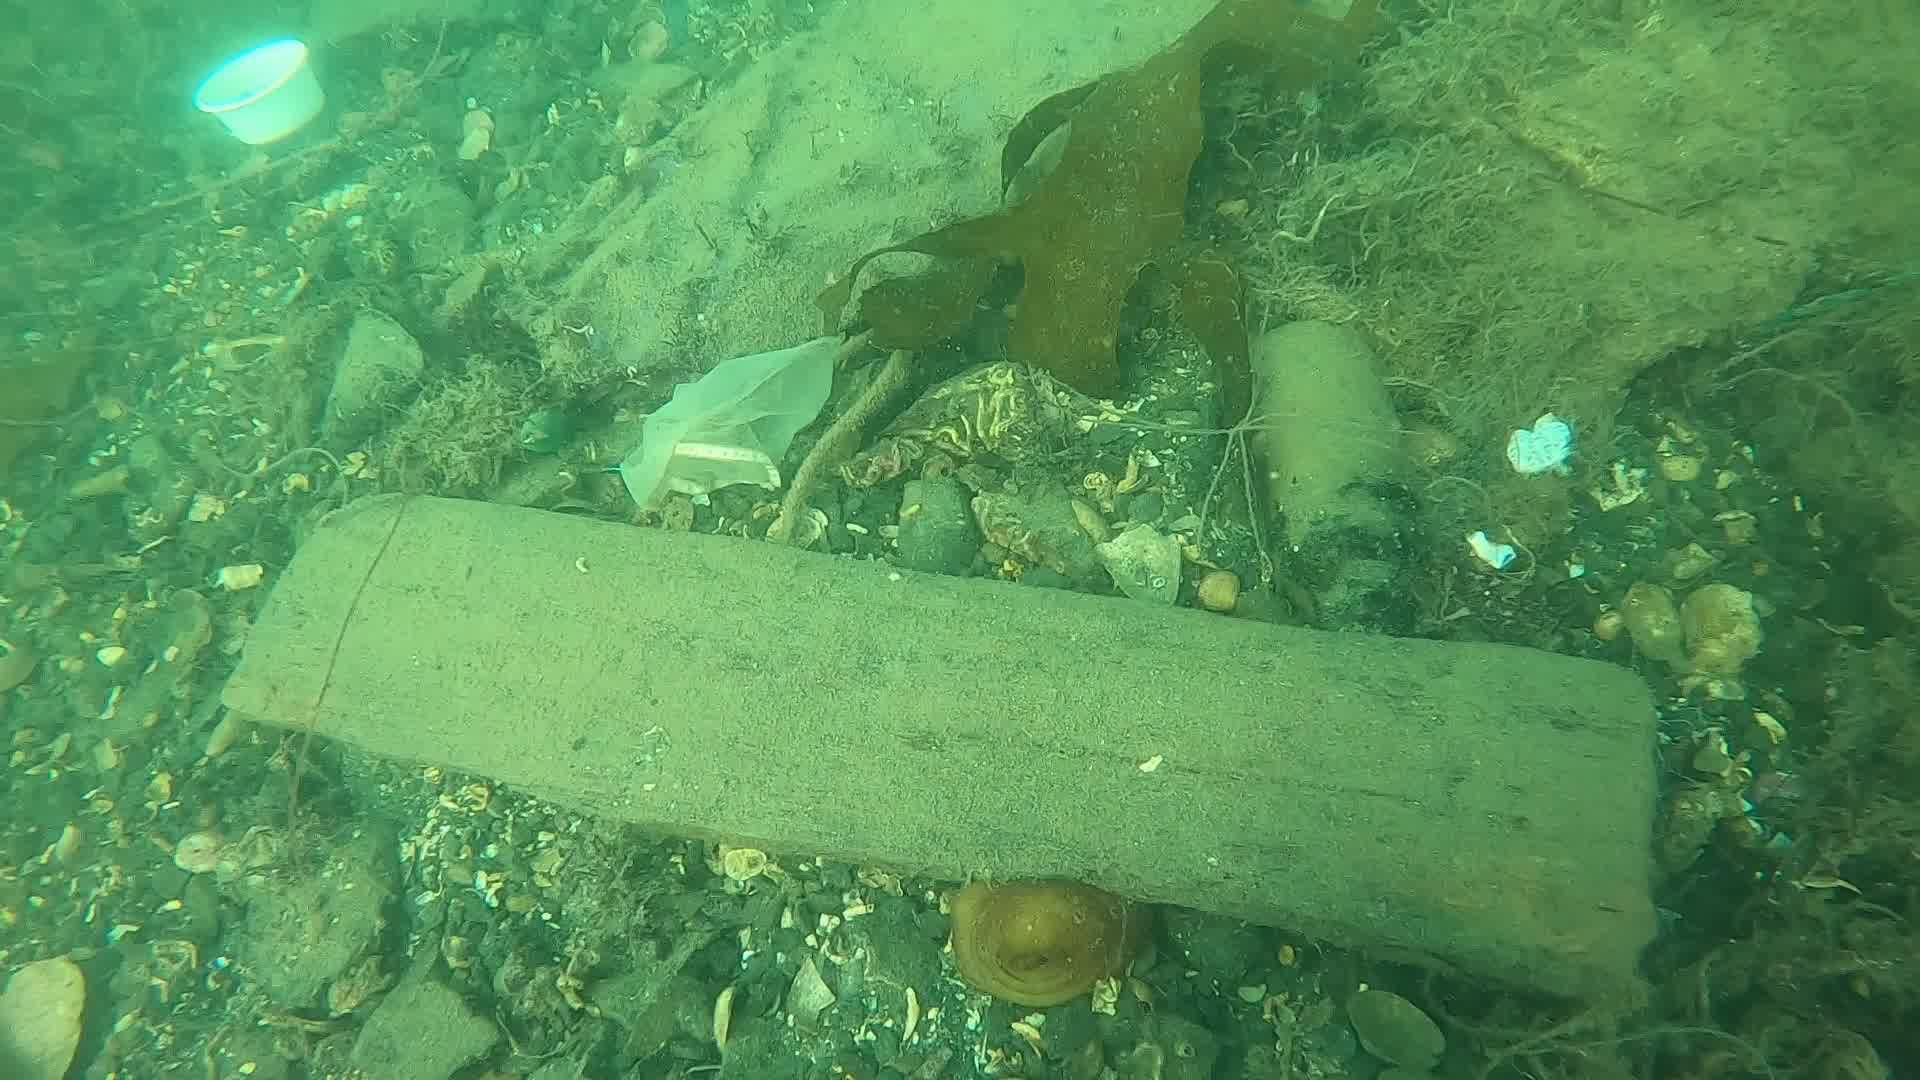wood: (211, 484, 1665, 1015)
